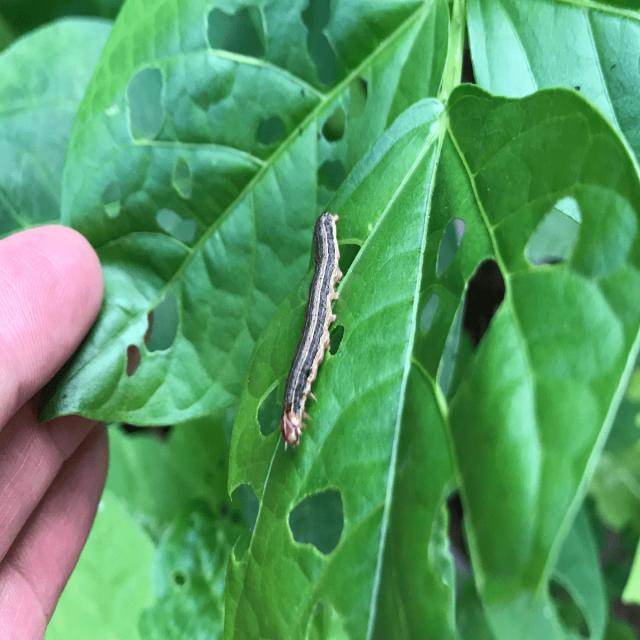Army worm: (5, 3, 637, 637), (277, 209, 344, 453), (284, 485, 348, 562)
